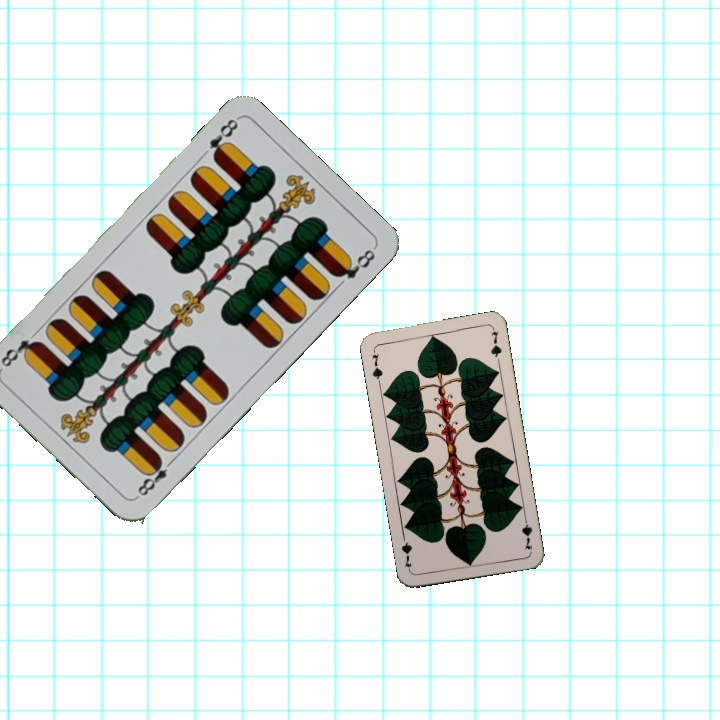E8: (132, 454, 178, 501), (205, 114, 241, 163)
G7: (367, 346, 385, 386), (518, 512, 535, 552)
